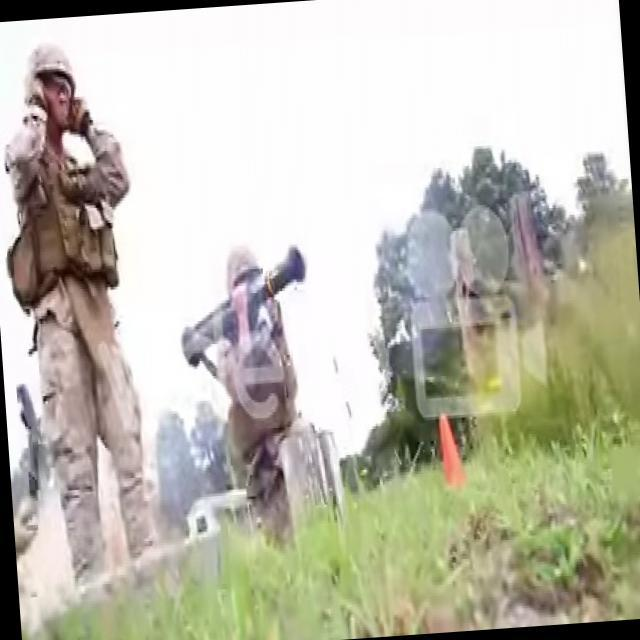rocket: (175, 246, 308, 372)
